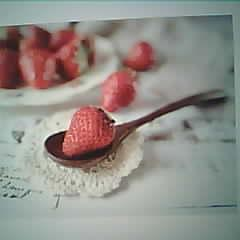straw-ripe: (62, 106, 115, 156)
